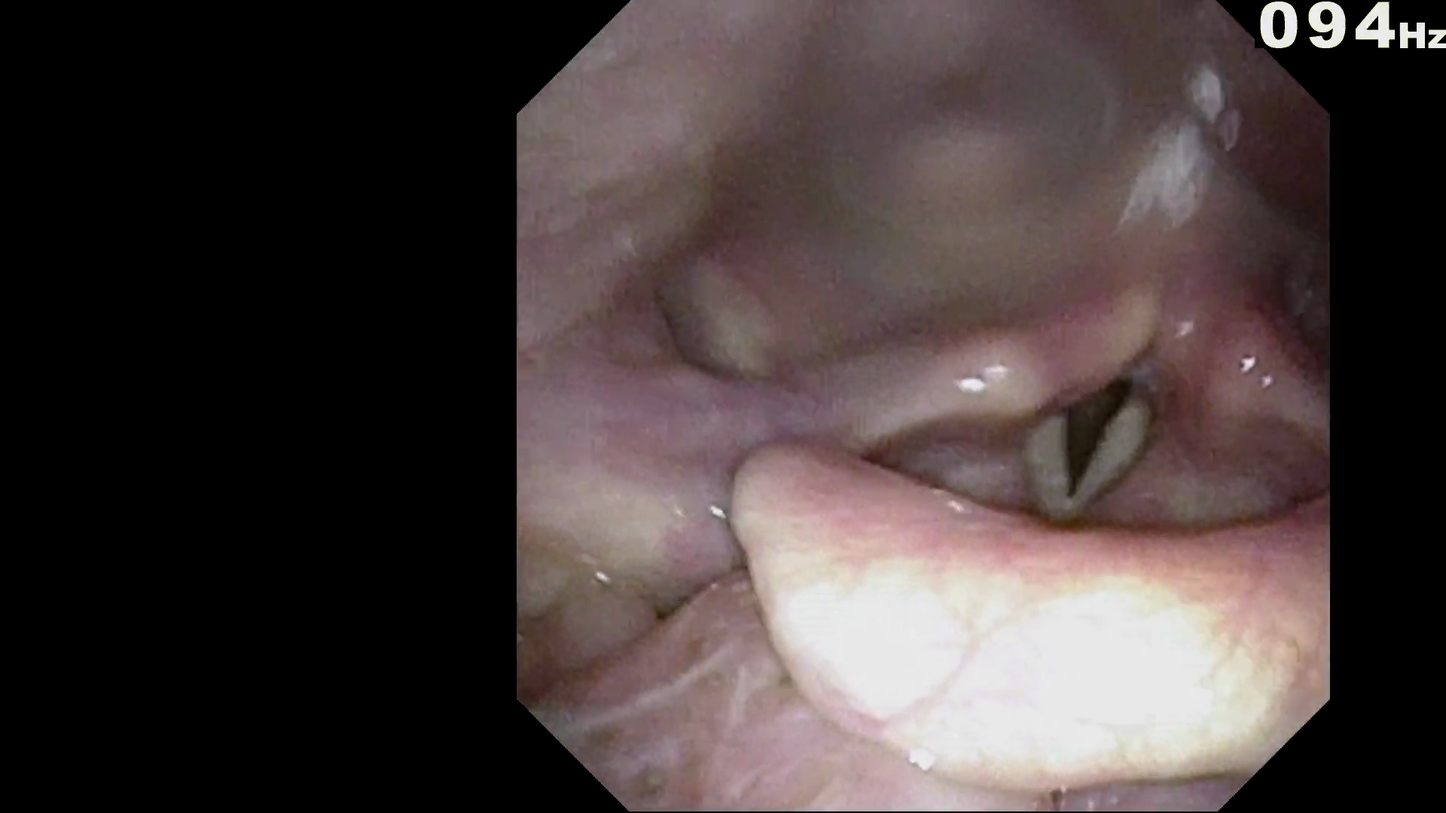epiglottis: (774, 466, 1309, 690)
trachea: (1038, 372, 1167, 488)
